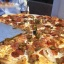olives: (30, 30, 40, 35), (50, 44, 55, 51)
pepperoni: (9, 16, 23, 26), (31, 39, 45, 47)
pizza: (1, 13, 64, 64)
